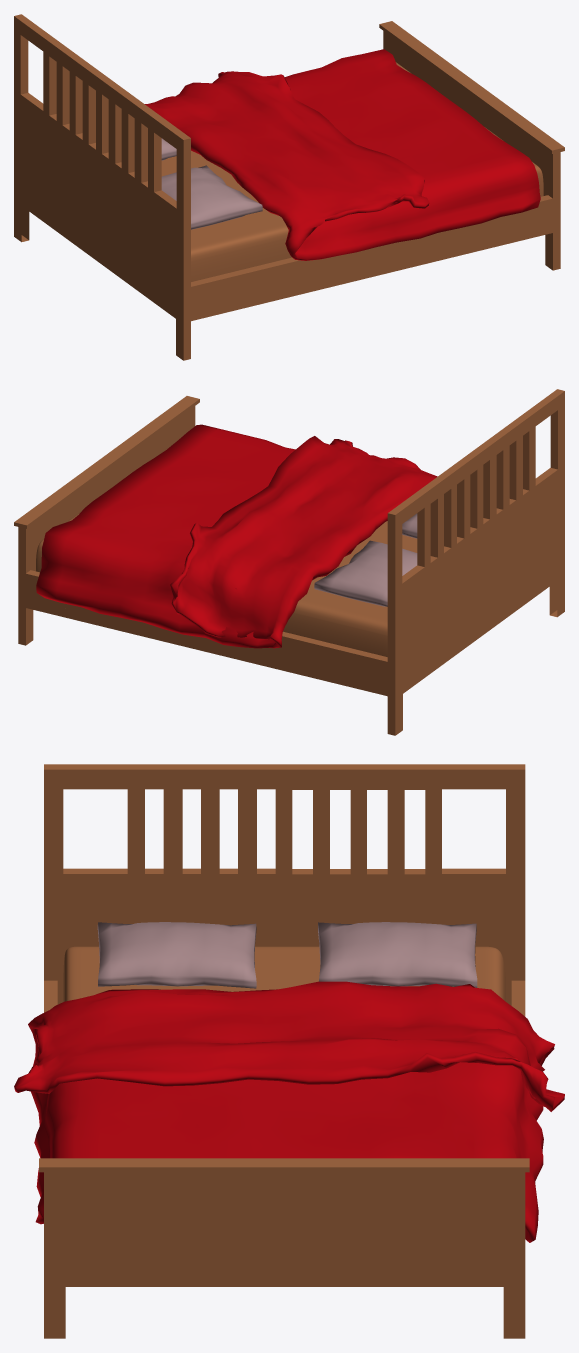
The model's file is model_Classic_Bed.fbx.
3 views of the same model, one above another, from view 1: azimuth 30°, elevation 25°; view 2: azimuth 150°, elevation 25°; view 3: azimuth 270°, elevation 25° (orthographic). The views are drawn at different scales.
Parts seen in each view (by area): view 1: Plane.001; view 2: Plane.001; view 3: Plane.001.
Boxes of the visible parts, bbox=[...] form: Plane.001: bbox=[14, 14, 564, 360]; Plane.001: bbox=[14, 389, 564, 735]; Plane.001: bbox=[14, 764, 564, 1338].
Size of the model in its own units: 214 by 119 by 189.
